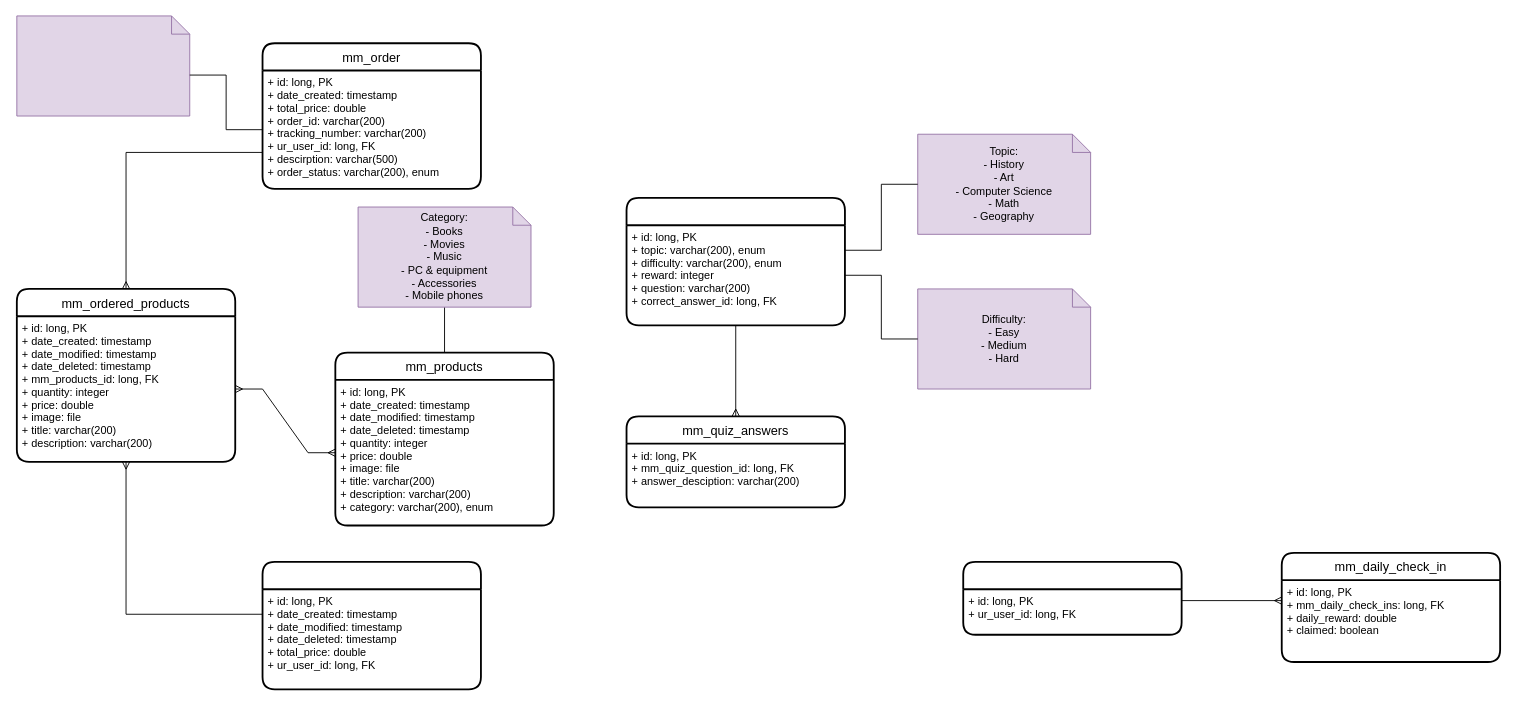
This 1516x706 diagram has some shape labels left out. The box of each missing label's shape, as (x1, y1, x2, y2) in pixels:
mm_daily_check_ins: (962, 561, 1182, 635)
mm_quiz_questions: (625, 197, 845, 326)
mm_shopping_cart: (261, 561, 481, 690)
Order status: - Received - Shipped - In Transition - Delivered - Cancelled: (16, 15, 190, 116)
